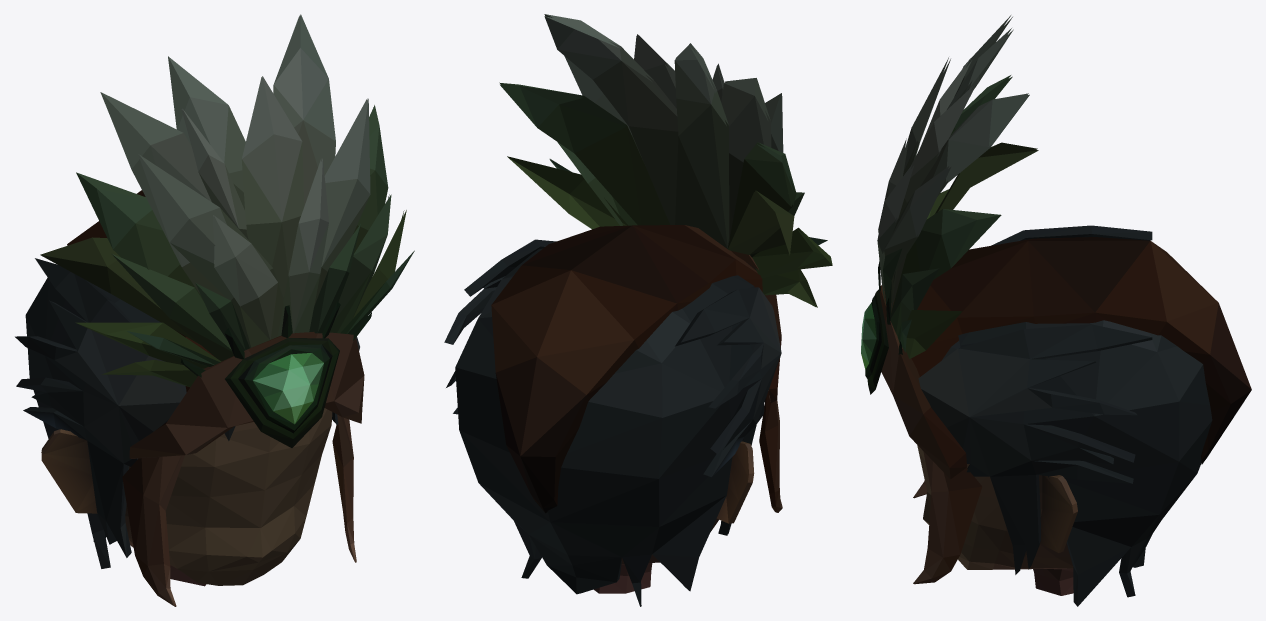
Rendered from helm_darkskin_spike_black_headress.fbx.
3 views of the same model, side by side, from view 1: azimuth 30°, elevation 25°; view 2: azimuth 150°, elevation 25°; view 3: azimuth 270°, elevation 25° (orthographic). The views are drawn at different scales.
Parts seen in each view (by area): view 1: helm_darkskin_spike_black_headress; view 2: helm_darkskin_spike_black_headress; view 3: helm_darkskin_spike_black_headress.
Boxes of the visible parts, x1,y1,x2,y2 form: helm_darkskin_spike_black_headress: [15, 14, 414, 606]; helm_darkskin_spike_black_headress: [444, 14, 832, 606]; helm_darkskin_spike_black_headress: [861, 15, 1251, 606].
Bounding box in the file's own units: 1.29 × 2.05 × 1.35.
